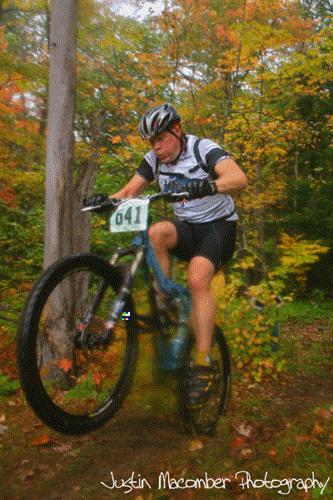car: (18, 192, 234, 440)
person: (83, 104, 251, 411)
